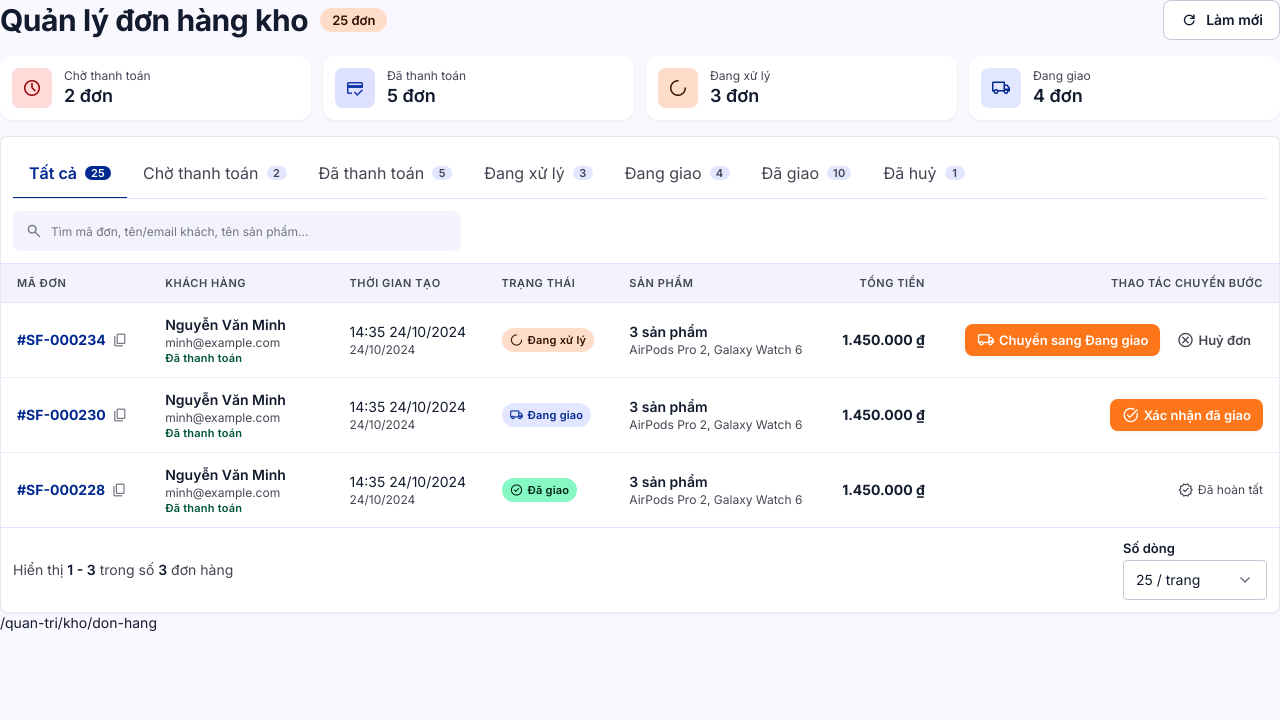
Test: WarehouseOrdersPage › huỷ đơn bắt buộc lý do; 409 INVALID_STATUS_TRANSITION → toast lỗi, đóng modal, tải lại
Click the button "Huỷ đơn".
click(1214, 340)  # box left=1164, top=324, right=1263, bottom=356
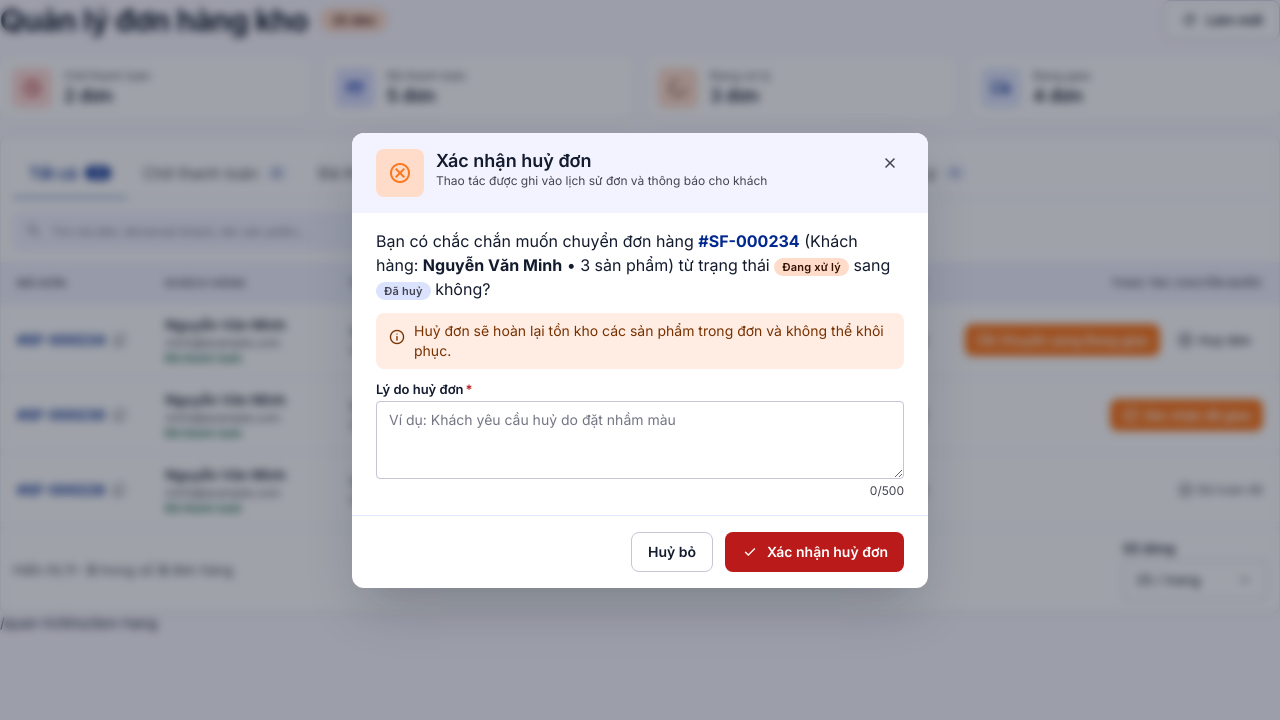
Expected: the dialog "Xác nhận huỷ đơn" shows "hoàn lại tồn kho", left=414, top=322, right=884, bottom=358
Click the button "Xác nhận huỷ đơn".
click(814, 552)  # box left=725, top=532, right=904, bottom=572
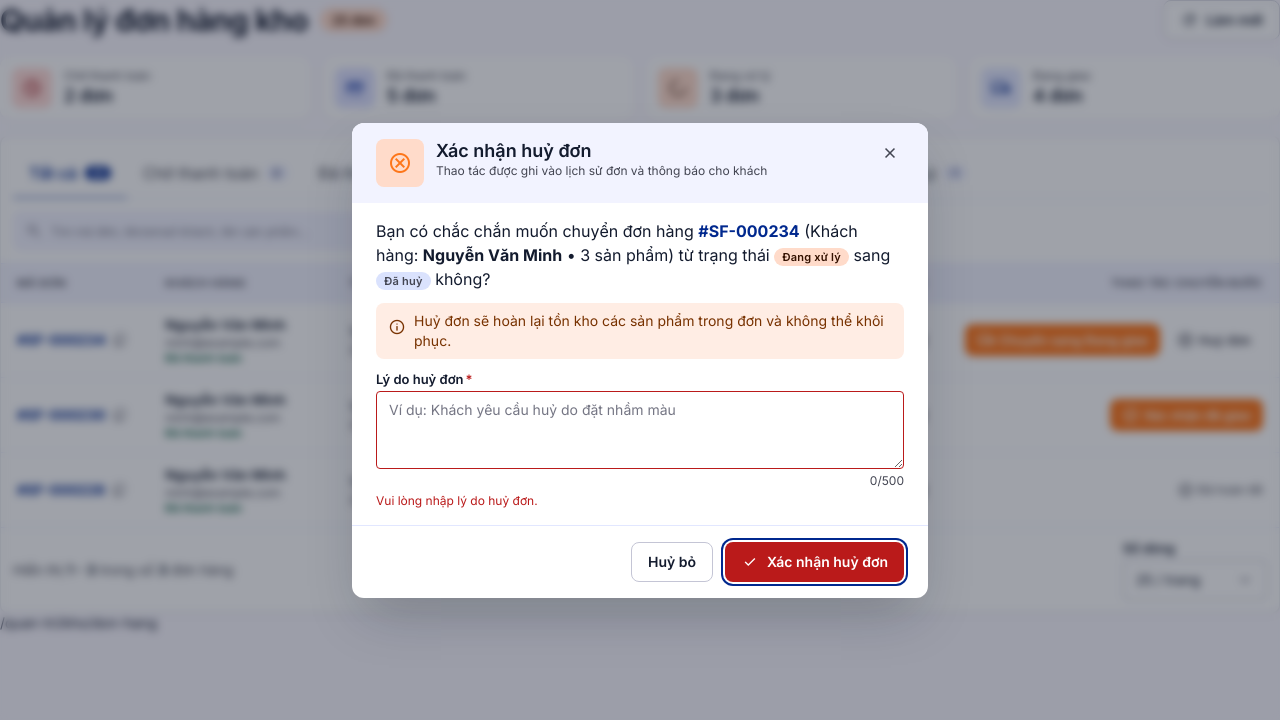
Expected: the text "Vui lòng nhập lý do huỷ đơn." is shown, left=376, top=492, right=538, bottom=508
Type "Khách đổi ý" into the text box labelled "Lý do huỷ đơn*".
click(640, 430); type("Khách đổi ý")  # box left=376, top=390, right=904, bottom=468
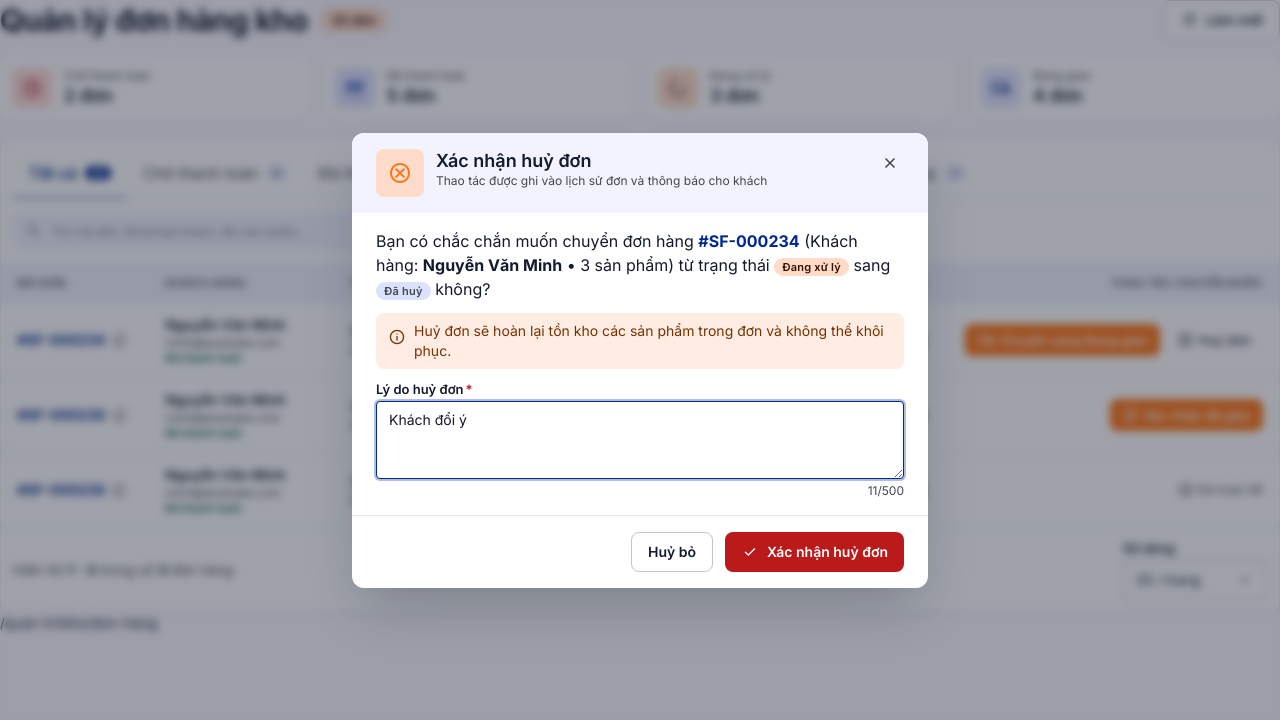
Click the button "Xác nhận huỷ đơn".
click(814, 552)  # box left=725, top=532, right=904, bottom=572
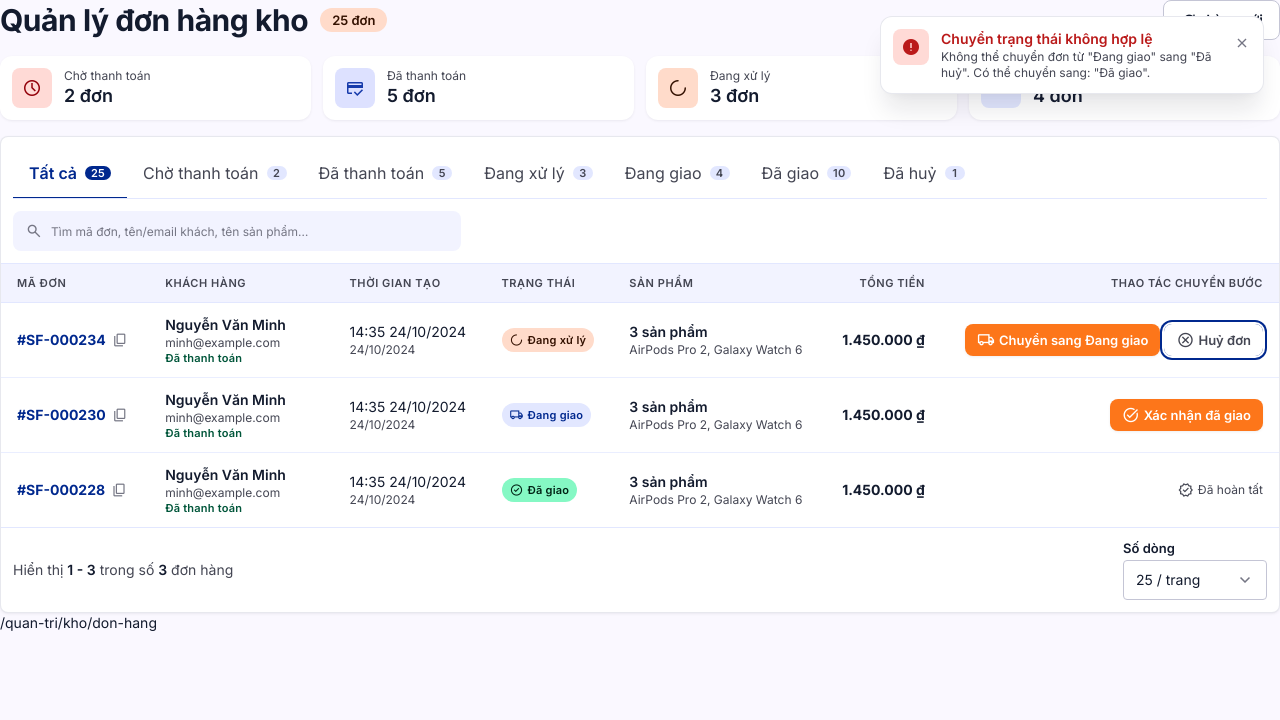
Expected: the text "Chuyển trạng thái không hợp lệ" is shown, left=941, top=30, right=1152, bottom=47
Expected: the dialog is gone
